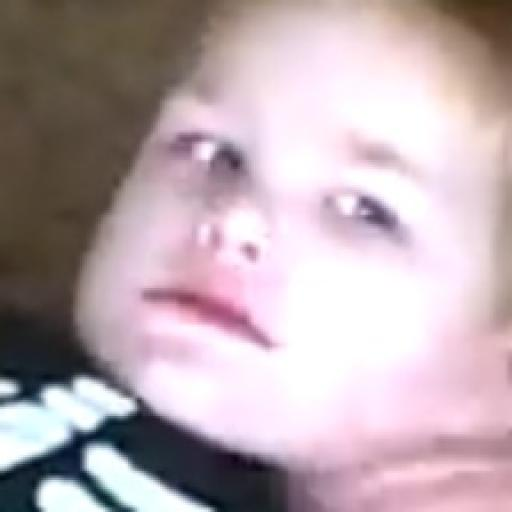Autism: (70, 29, 512, 450)
